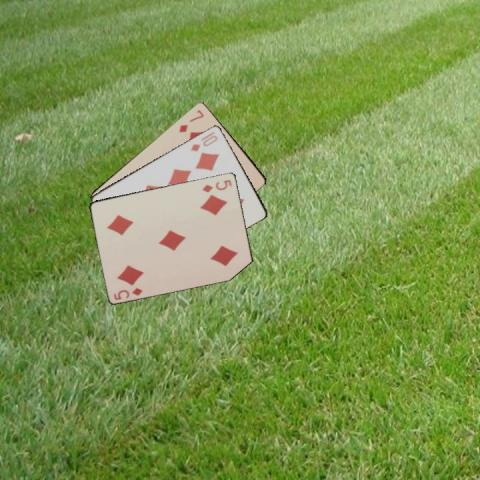10d: (188, 132, 219, 153)
5d: (199, 177, 233, 193), (111, 285, 144, 301)
7d: (176, 106, 205, 133)
